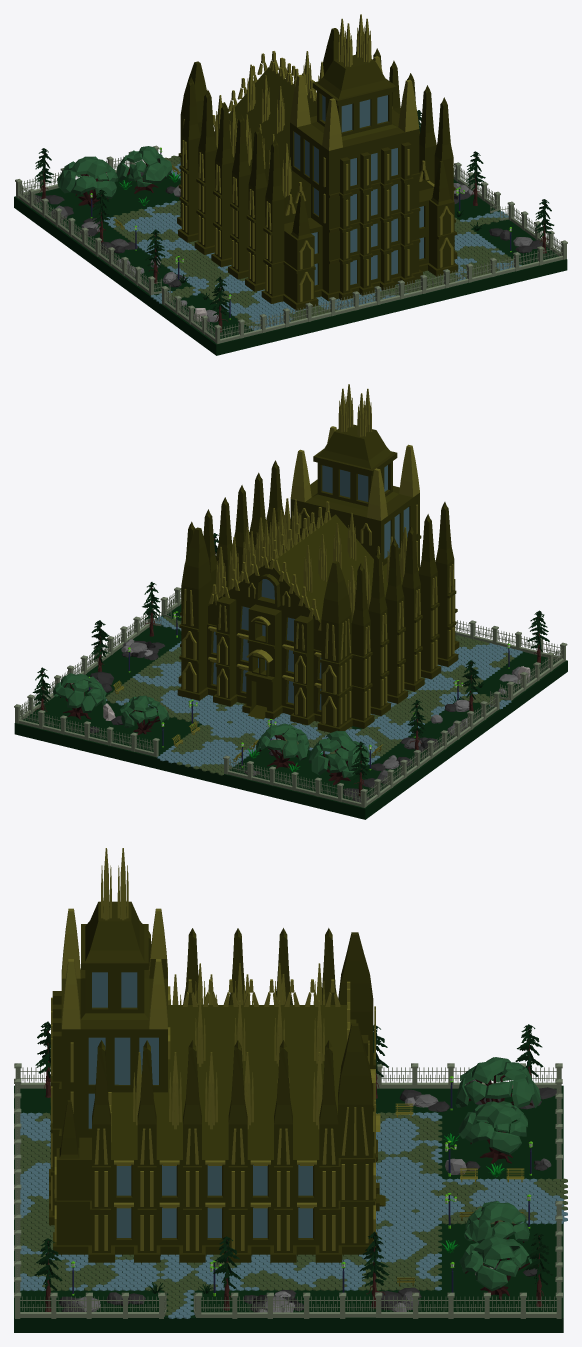
The model's file is CatholicTemple.FBX.
3 views of the same model, one above another, from view 1: azimuth 30°, elevation 25°; view 2: azimuth 150°, elevation 25°; view 3: azimuth 270°, elevation 25° (orthographic). The views are drawn at different scales.
Visible parts, largest first — view 1: catholic_temple; view 2: catholic_temple; view 3: catholic_temple.
Part boxes in pixels (box(x1,y1,x2,y2)): catholic_temple: box(14, 14, 567, 355); catholic_temple: box(14, 384, 567, 819); catholic_temple: box(14, 848, 567, 1332).
Size of the model in its own units: 30140 by 21828 by 30244.
